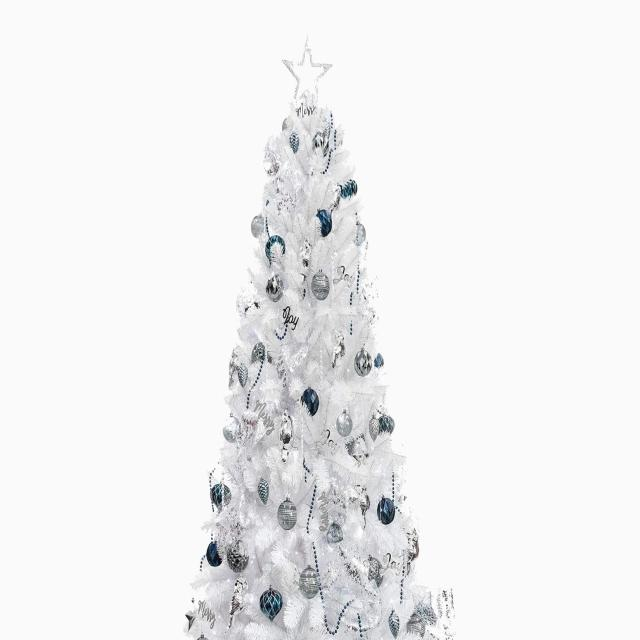Christmas-tree: (167, 27, 472, 640)
